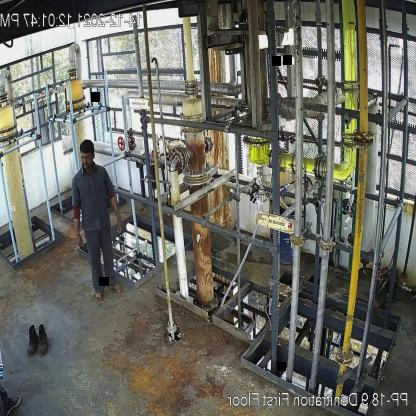no_shoes: (108, 283, 125, 293), (94, 291, 106, 304)
shoes: (35, 323, 50, 356), (26, 326, 38, 354)
